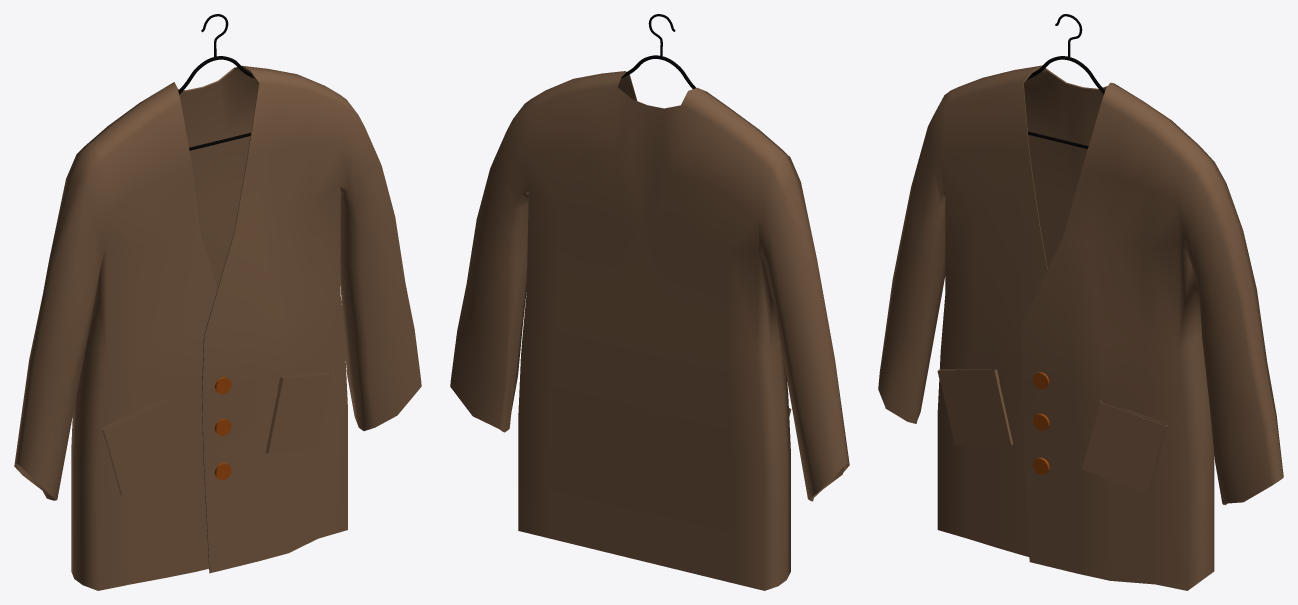
The model's file is coat_hanger.fbx.
The picture shows the model from 3 angles, left to right: view 1: azimuth 30°, elevation 25°; view 2: azimuth 150°, elevation 25°; view 3: azimuth 330°, elevation 25°; orthographic projection.
Parts seen in each view (by area): view 1: coat, hanger; view 2: coat, hanger; view 3: coat, hanger.
Boxes of the visible parts, <box> form: coat: <box>14,65,421,590</box>; hanger: <box>178,14,253,150</box>; coat: <box>450,71,849,590</box>; hanger: <box>621,14,695,88</box>; coat: <box>878,65,1283,590</box>; hanger: <box>1027,14,1105,148</box>.
Bounding box in the file's own units: 632 × 816 × 111.
